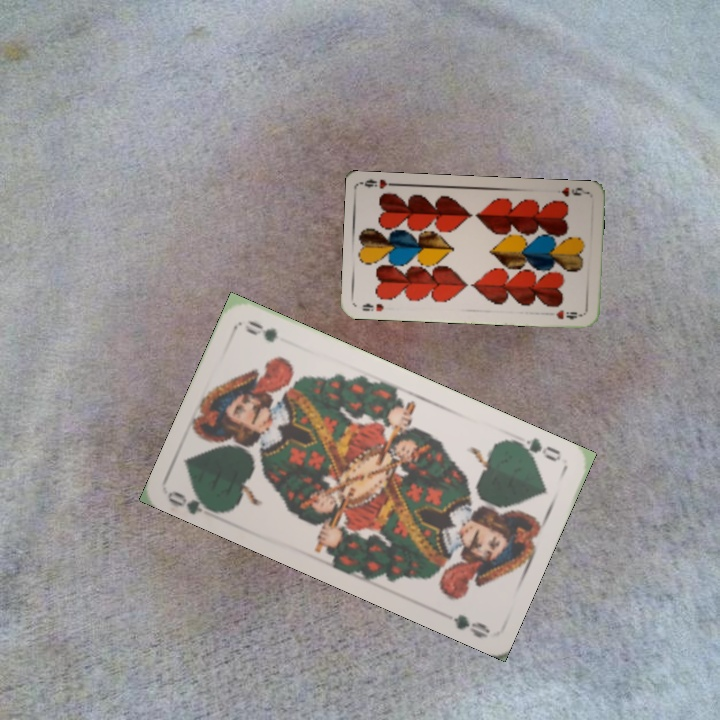GO: (166, 486, 225, 516), (509, 433, 564, 464)
H9: (558, 183, 589, 199), (358, 299, 386, 314)
